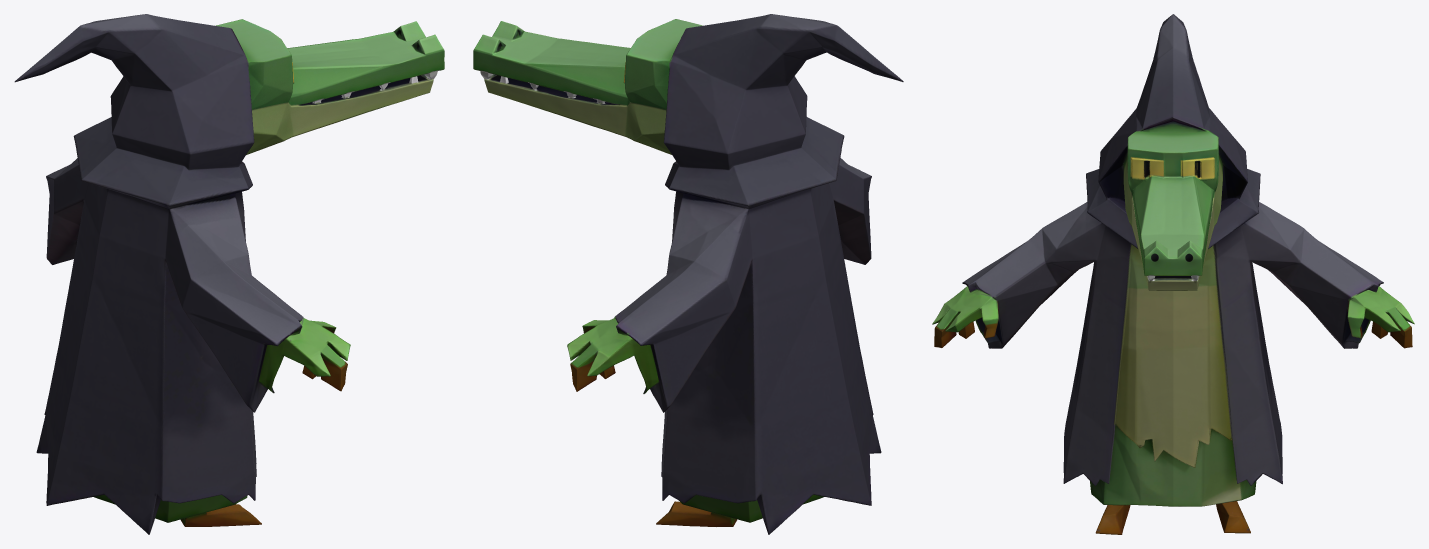
Rendered from tripo_pbr_model_7770dd13-f8bc-4e97-9e66-b4a2d27a2f33_meshopt.glb.
The picture shows the model from 3 angles, left to right: view 1: azimuth 30°, elevation 25°; view 2: azimuth 150°, elevation 25°; view 3: azimuth 270°, elevation 25°; orthographic projection. The views are drawn at different scales.
Parts seen in each view (by area): view 1: tripo_node_7770dd13-f8bc-4e97-9e66-b4a2d27a2f33; view 2: tripo_node_7770dd13-f8bc-4e97-9e66-b4a2d27a2f33; view 3: tripo_node_7770dd13-f8bc-4e97-9e66-b4a2d27a2f33.
Part boxes in pixels (x1,y1,x2,y2): tripo_node_7770dd13-f8bc-4e97-9e66-b4a2d27a2f33: [14, 14, 444, 534]; tripo_node_7770dd13-f8bc-4e97-9e66-b4a2d27a2f33: [473, 14, 903, 534]; tripo_node_7770dd13-f8bc-4e97-9e66-b4a2d27a2f33: [932, 14, 1414, 534].
Bounding box in the file's own units: 0.8641 × 1 × 0.9545.
1 material, 1 textured.
